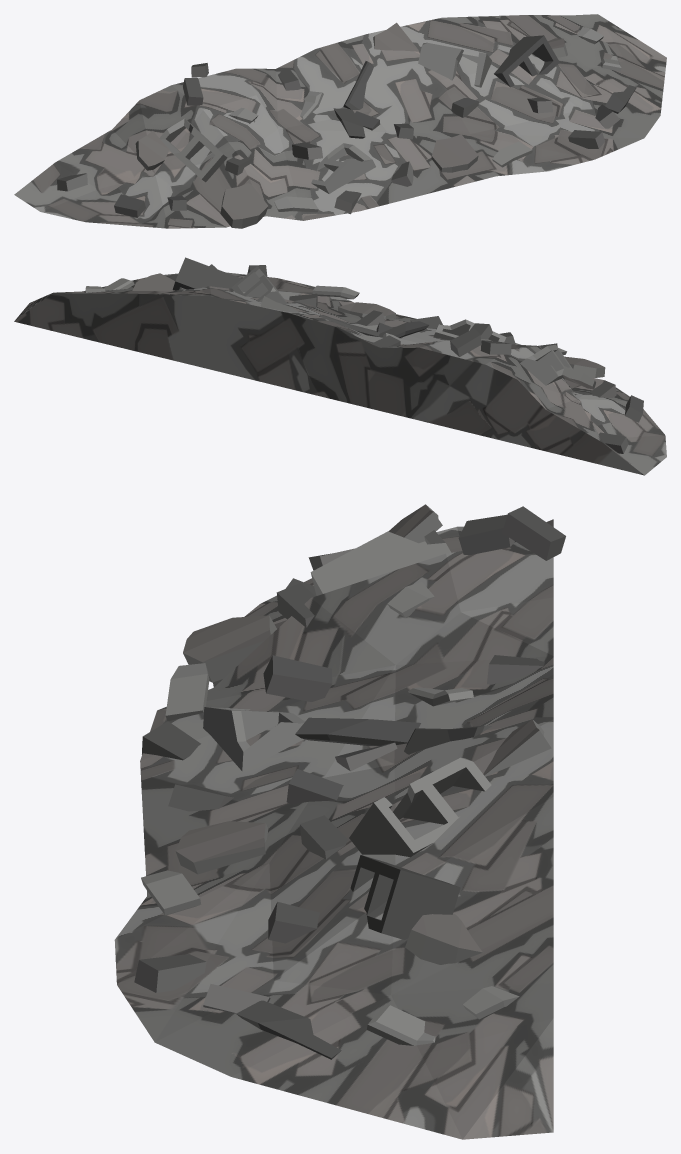
Rendered from SM_Prop_Rubble_Pile_05.fbx.
3 views of the same model, one above another, from view 1: azimuth 30°, elevation 25°; view 2: azimuth 150°, elevation 25°; view 3: azimuth 270°, elevation 25° (orthographic). The views are drawn at different scales.
Parts seen in each view (by area): view 1: SM_Prop_Rubble_Pile_05; view 2: SM_Prop_Rubble_Pile_05; view 3: SM_Prop_Rubble_Pile_05.
Part boxes in pixels (box(x1,y1,x2,y2)): SM_Prop_Rubble_Pile_05: box(14, 14, 666, 228); SM_Prop_Rubble_Pile_05: box(14, 257, 666, 475); SM_Prop_Rubble_Pile_05: box(114, 504, 565, 1139).
Bounding box in the file's own units: 476 × 77.92 × 148.
